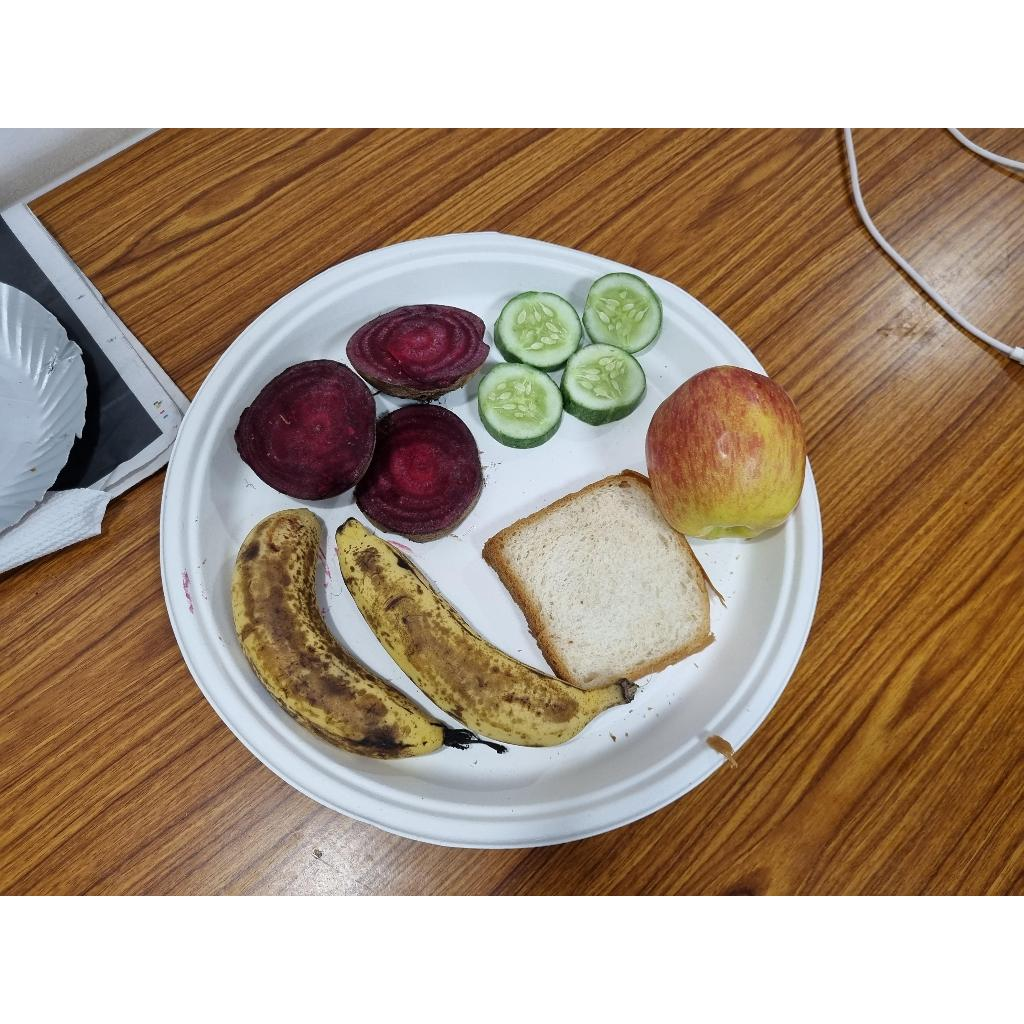apple: (643, 366, 808, 544)
banana: (319, 520, 636, 751), (229, 512, 454, 761)
cucumber: (491, 292, 585, 388), (470, 362, 566, 452), (558, 337, 648, 431), (585, 273, 665, 359)
